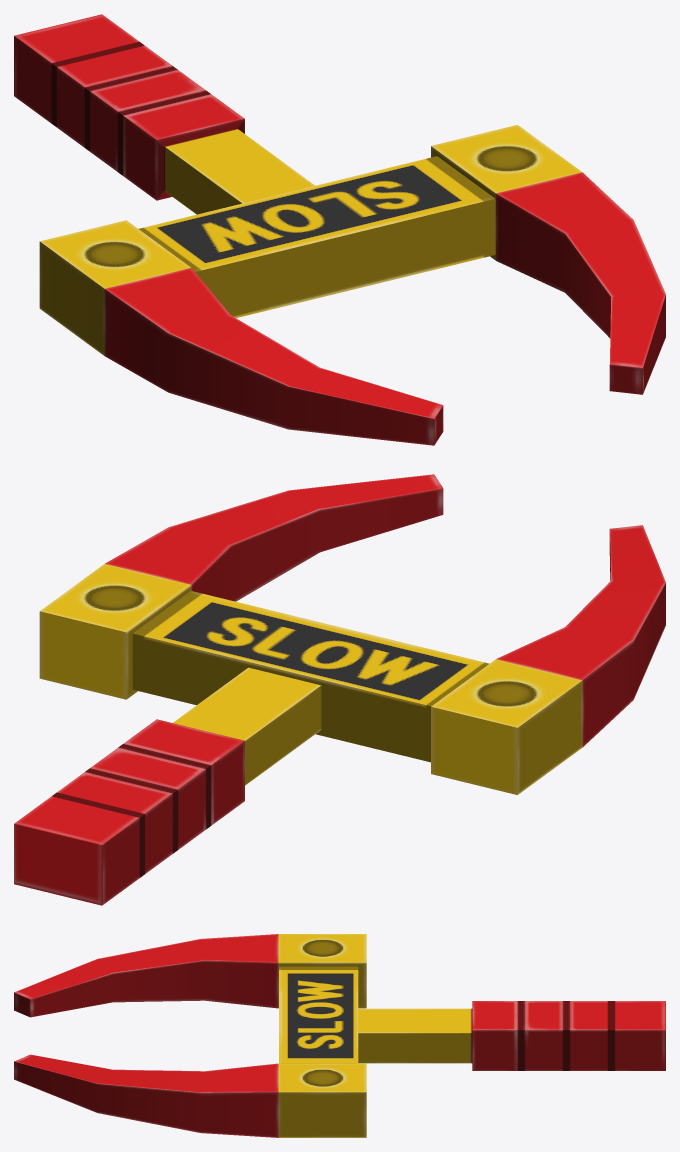
The model's file is item_slow_arrow.FBX.
The picture shows the model from 3 angles, top to bottom: view 1: azimuth 30°, elevation 25°; view 2: azimuth 150°, elevation 25°; view 3: azimuth 270°, elevation 25°; orthographic projection. The views are drawn at different scales.
Visible parts, largest first — view 1: item_slow_arrow, item_slow_handle; view 2: item_slow_arrow, item_slow_handle; view 3: item_slow_arrow, item_slow_handle.
Part boxes in pixels (x1=…): item_slow_arrow: x1=39, y1=125, x2=665, y2=445; item_slow_handle: x1=14, y1=14, x2=314, y2=214; item_slow_arrow: x1=39, y1=474, x2=665, y2=794; item_slow_handle: x1=14, y1=667, x2=321, y2=905; item_slow_arrow: x1=14, y1=934, x2=366, y2=1137; item_slow_handle: x1=358, y1=1001, x2=665, y2=1070.
Size of the model in its own units: 0.216 by 0.0291 by 0.3762.
